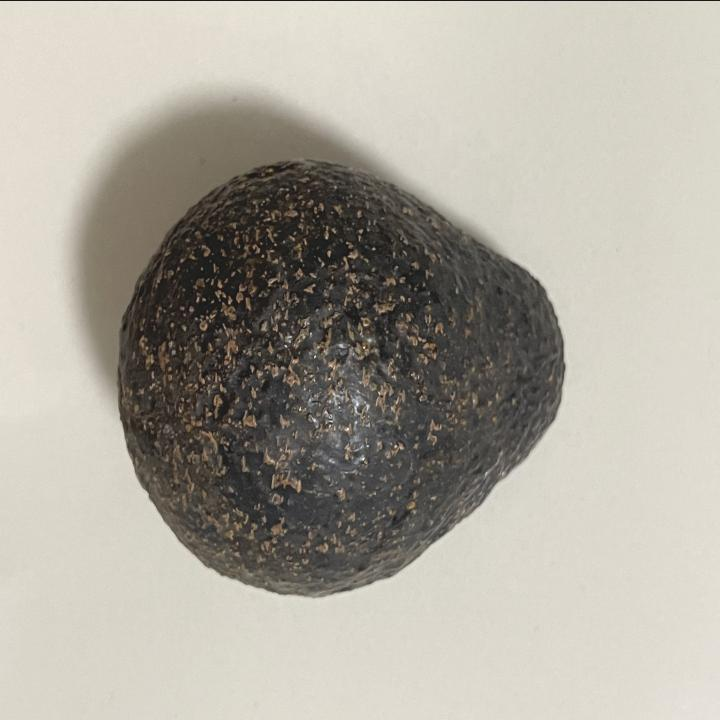Level3: (108, 145, 576, 611)
